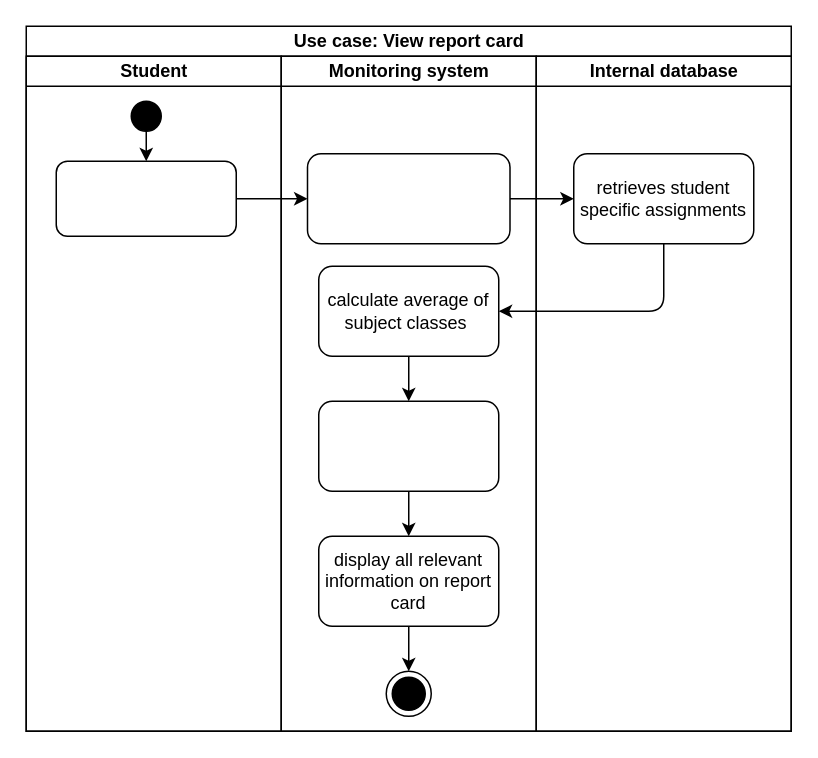
Image size: 818x758. Some labels were removed from this diagram. The shapes that lost their labels are listed below. From the top down, each one's centre as x and y in pixels, then its label:
At [145,198]: "student selects option to view report card".
At [408,198]: "gets class assignment information and marks".
At [408,445]: "compile report card with teacher comment".
